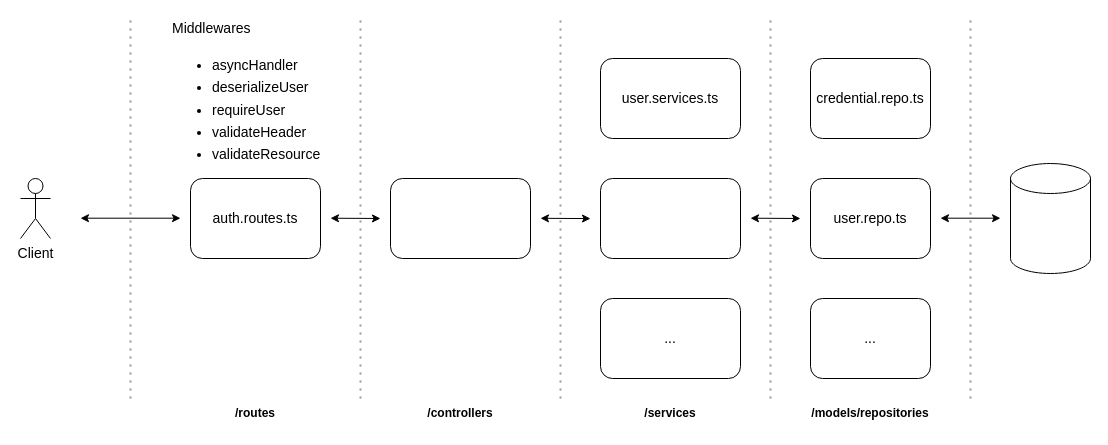
The diagram is 1108 pixels wide and 445 high, and some of its shapes have lost their labels. Here are the shapes that lost their labels. From the top down, the centre of each, then its label:
At pixel 460 218: "auth.controller.ts".
At pixel 670 218: "access.services.ts".
At pixel 1050 218: "MongoDB".
